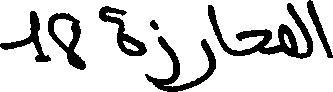X: (99, 1, 146, 82), (0, 6, 48, 66), (148, 15, 179, 91), (50, 8, 83, 74), (208, 0, 227, 82), (309, 0, 332, 62), (181, 34, 206, 91), (236, 24, 269, 60), (278, 0, 295, 61), (297, 0, 307, 63)
